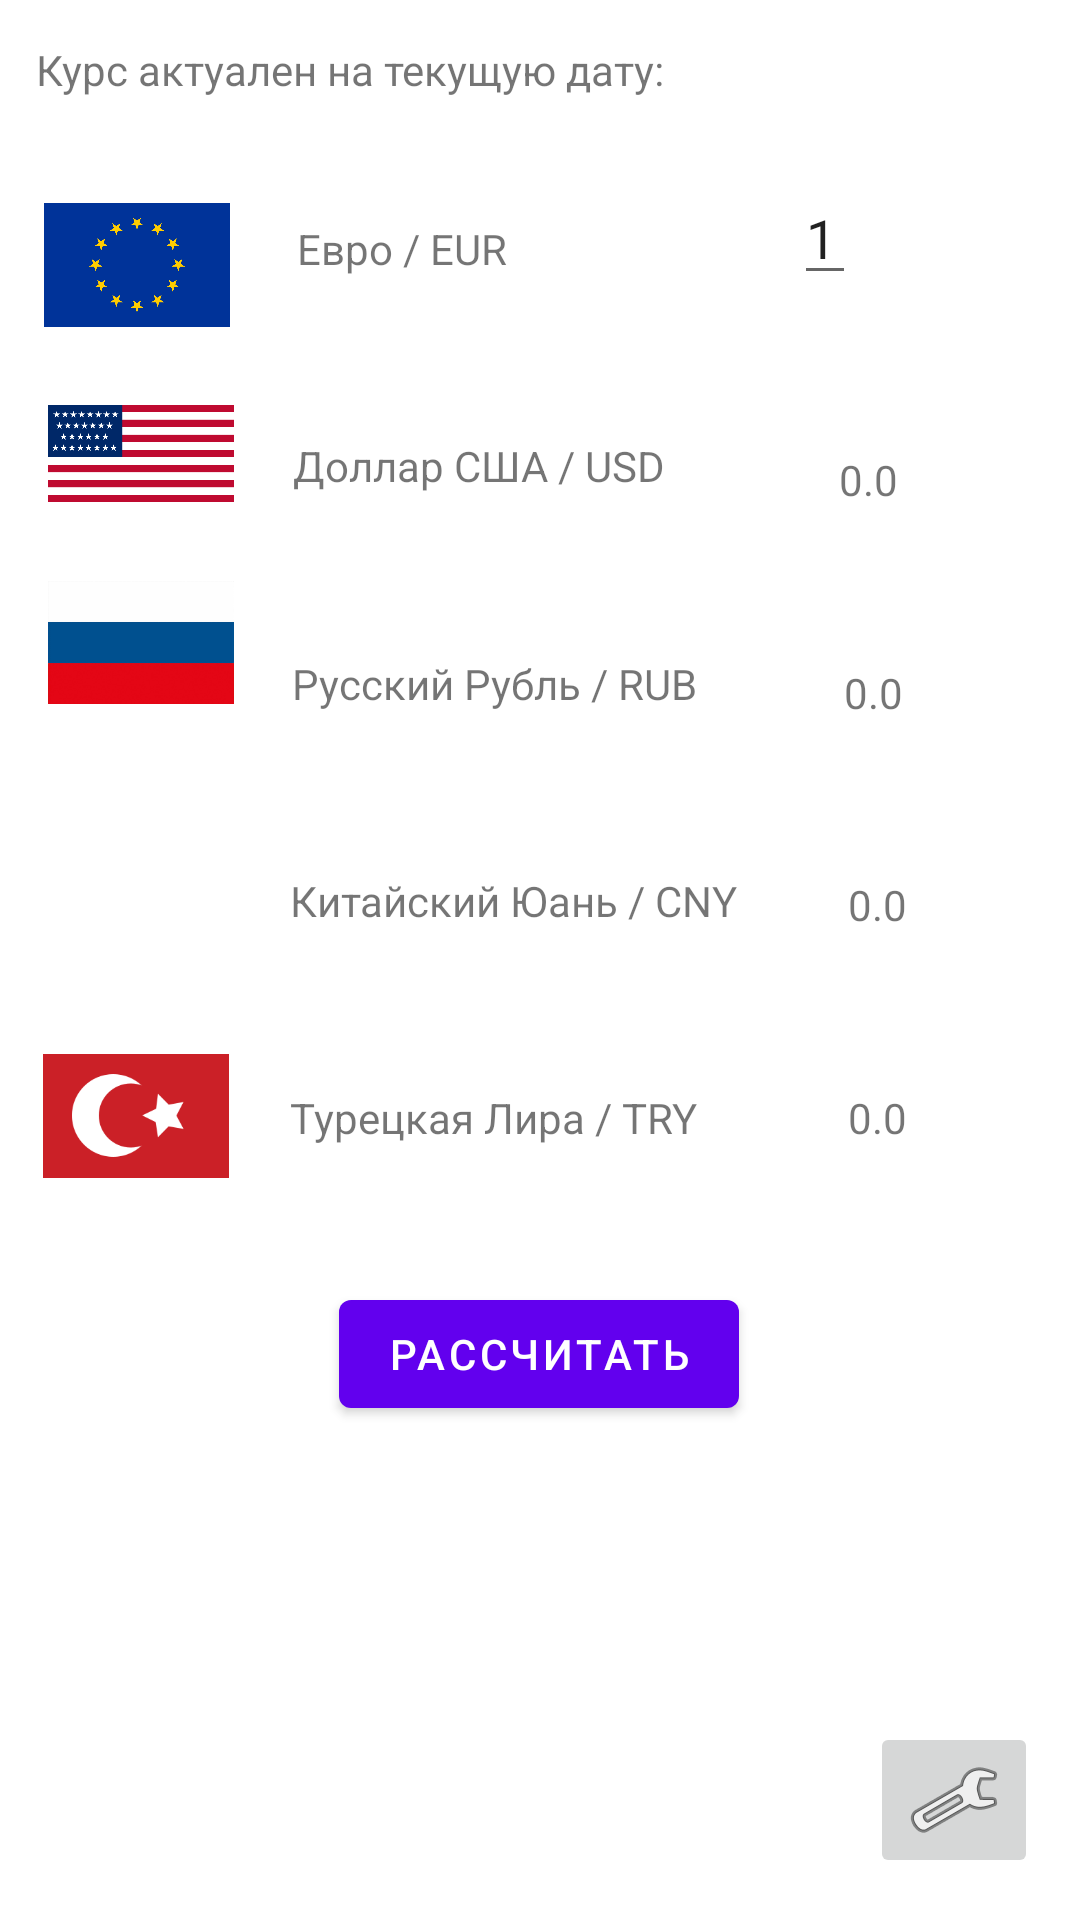

Named icons in this screenshot (1080px x 1920px) and their bounding boxes, region(x1, y1, x2, y2):
euro: region(44, 203, 230, 327)
manage: region(882, 1740, 1026, 1860)
rus: region(48, 622, 234, 704)
turkey: region(43, 1054, 229, 1178)
usa: region(48, 405, 234, 502)
